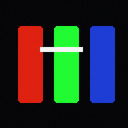3 line_h: (40, 47, 82, 51)
